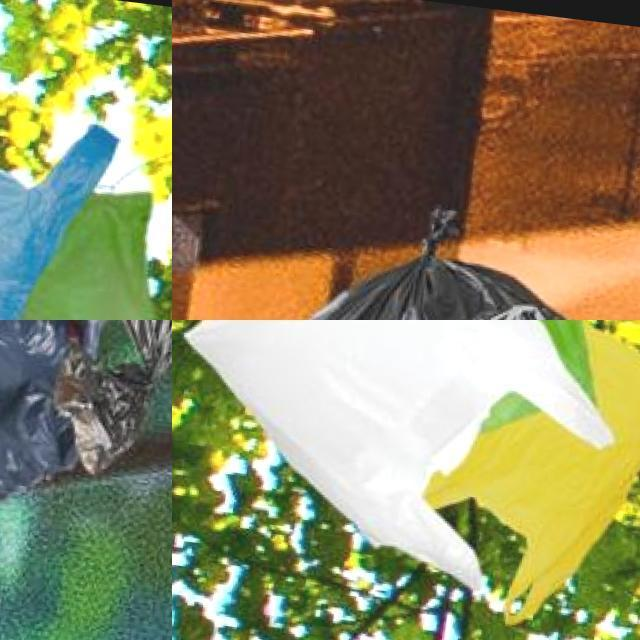waste: (172, 320, 622, 610), (431, 320, 640, 634), (205, 206, 640, 320), (0, 15, 135, 320), (299, 320, 631, 426), (0, 158, 172, 320), (0, 371, 89, 517), (0, 320, 79, 426)
